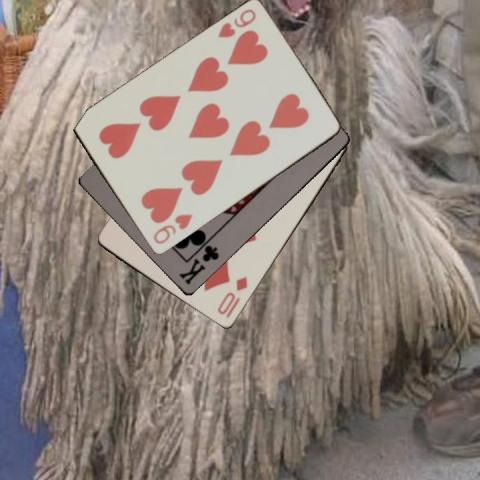10d: (215, 274, 249, 317)
9h: (150, 211, 194, 246), (215, 6, 257, 40)
Kc: (175, 243, 221, 286)
